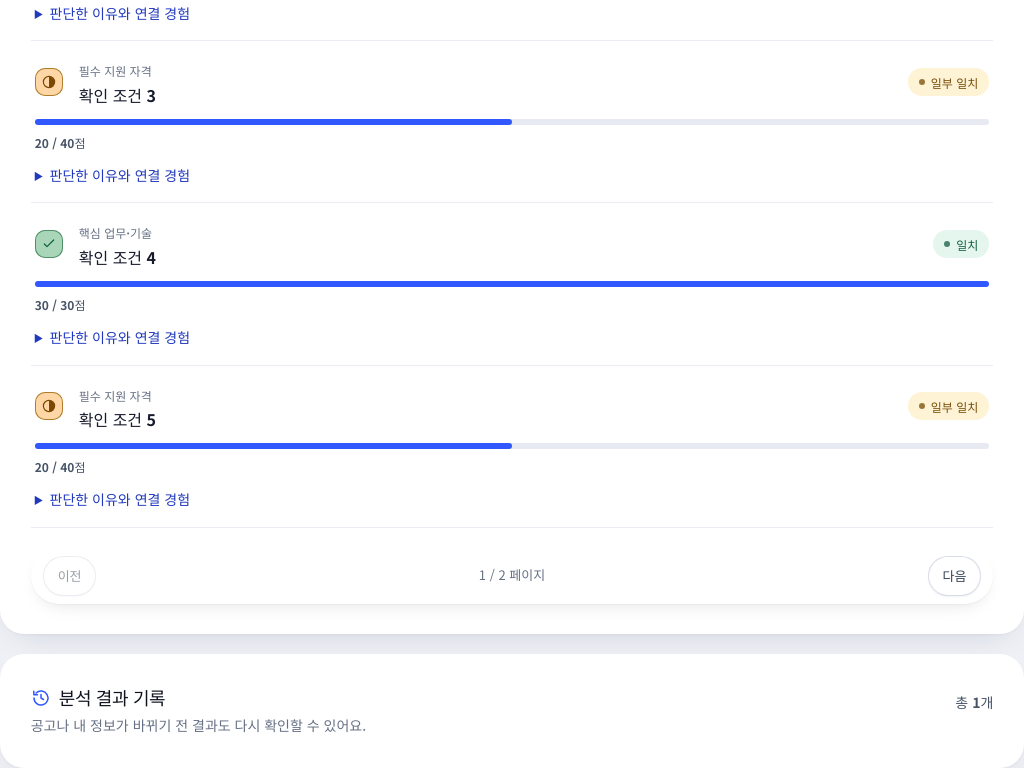
Test case: P6 Job analysis page › paginates criterion results by five and resets the page when the status filter changes
(page scrolled)
Expected: the text "확인 조건 6" is not shown
Click the button "다음": (954,576) [928,556,981,596]
(page scrolled)
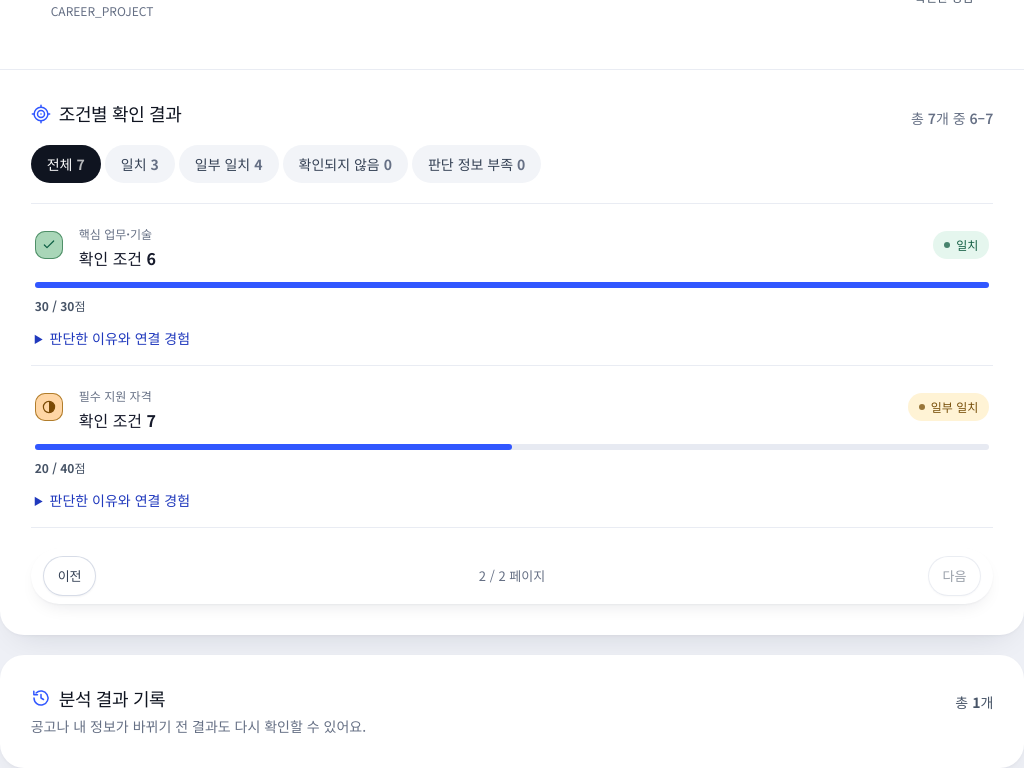
Result: the number of elements with class "analysis-criterion" is 2 at [31,203,993,365]; [31,365,993,528]
Result: the text "총 7개 중 6–7" is shown at [911,106,993,129]
Result: the text "확인 조건 6" is shown at [79,246,156,270]
Click the button "일치 3": (140,164) [105,145,175,183]
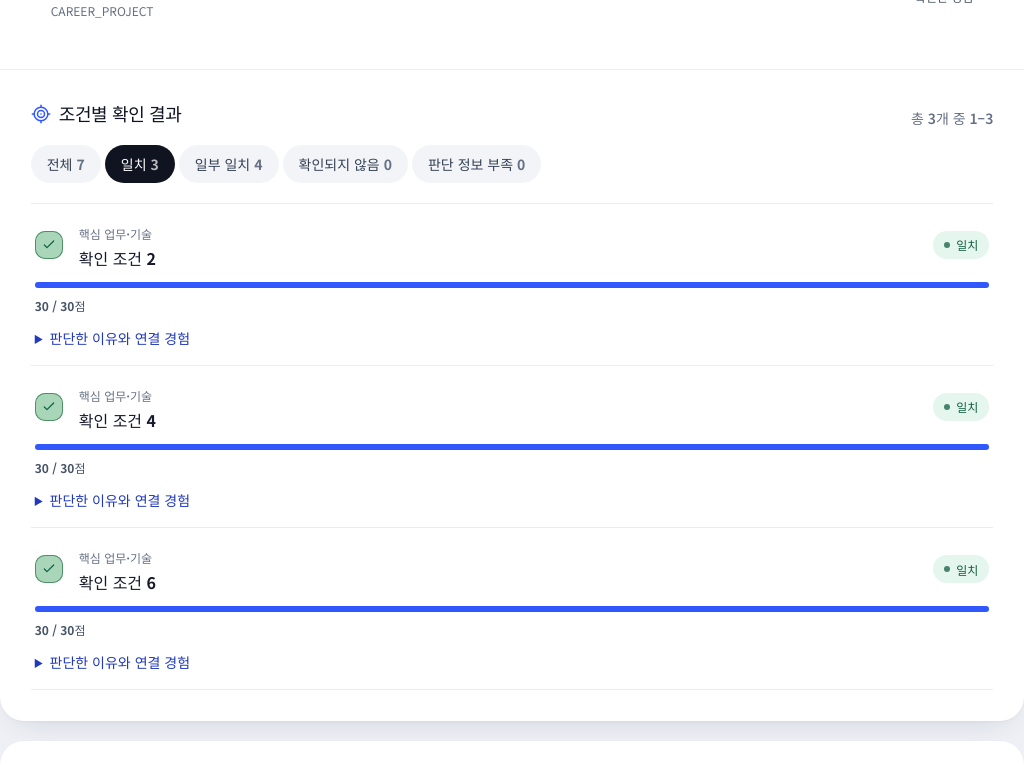
Result: the number of elements with class "analysis-criterion" is 3 at [31,203,993,365]; [31,365,993,527]; [31,527,993,690]
Result: the text "총 3개 중 1–3" is shown at [911,106,993,129]
